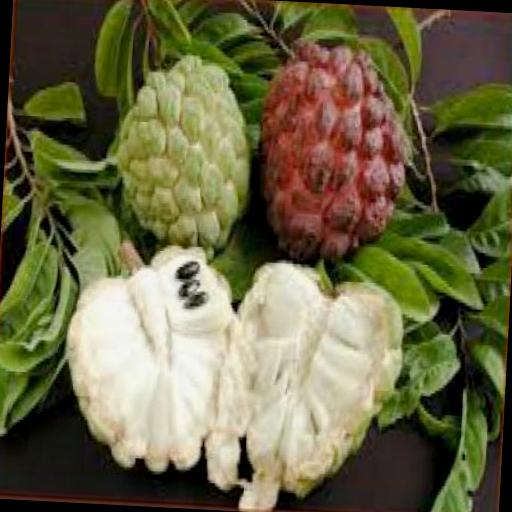biodegradable: (204, 257, 410, 512), (60, 230, 242, 478), (256, 33, 418, 261), (112, 37, 258, 253)
